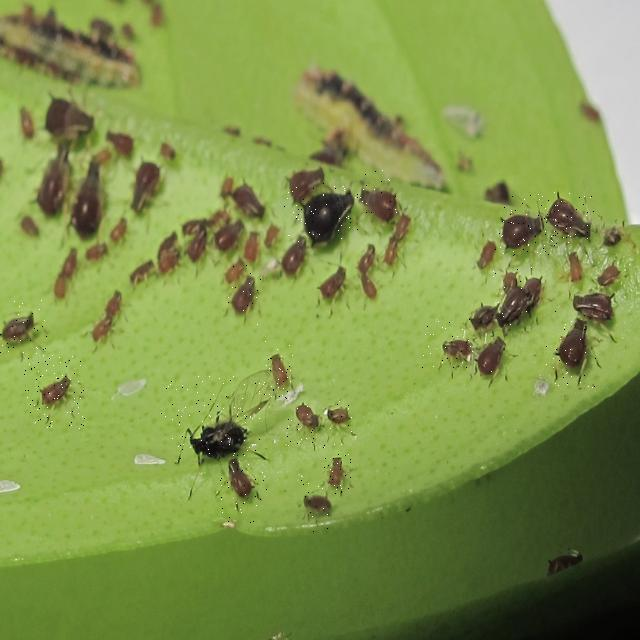aphid: (161, 376, 261, 459), (24, 354, 86, 429), (284, 183, 359, 242), (543, 311, 596, 388), (493, 192, 551, 256), (218, 458, 267, 524), (548, 190, 600, 246), (70, 160, 105, 240), (492, 266, 534, 332), (36, 144, 72, 218), (43, 93, 94, 145), (422, 320, 474, 370), (0, 300, 48, 354), (227, 265, 263, 333), (184, 428, 216, 502), (90, 289, 124, 351), (262, 341, 296, 402), (356, 167, 399, 213), (474, 324, 504, 386), (301, 480, 334, 532), (322, 444, 352, 501), (130, 161, 162, 214), (287, 395, 319, 446), (383, 213, 412, 268), (52, 247, 78, 303), (287, 165, 325, 202), (572, 291, 614, 324), (317, 264, 347, 310), (310, 132, 349, 167), (231, 183, 266, 220), (280, 234, 308, 278), (156, 231, 182, 277), (184, 220, 209, 266), (213, 218, 244, 255), (357, 245, 377, 301), (326, 394, 352, 436), (468, 303, 498, 334), (105, 130, 135, 159), (129, 260, 155, 288), (224, 256, 246, 286), (476, 239, 496, 271), (484, 180, 510, 204), (243, 230, 260, 265), (109, 217, 128, 246)
